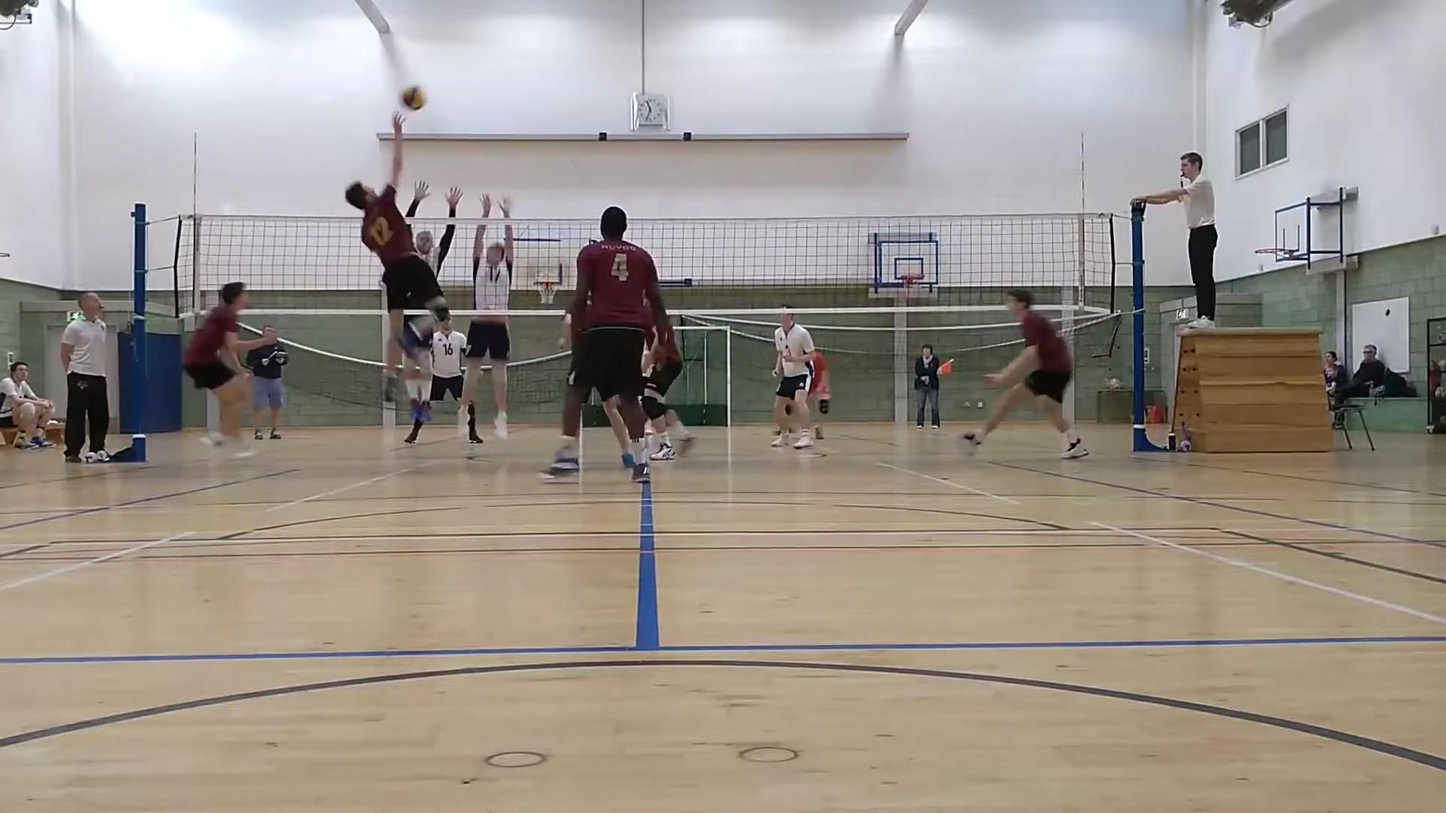attacco: (337, 110, 450, 405)
muro: (388, 168, 463, 413), (463, 189, 520, 443)
